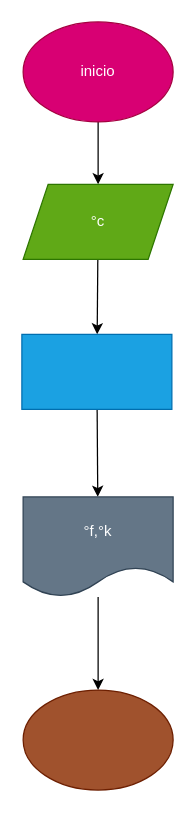
Some shapes in this 195 by 813 pixel diagram are drawn without their labels. The shapes that lost their labels are listed below. From the top down, each one's centre as x and y in pixels, then its label:
point 96,371: °k=c-273.15 °f=°c*1.8.32
point 97,739: fin
